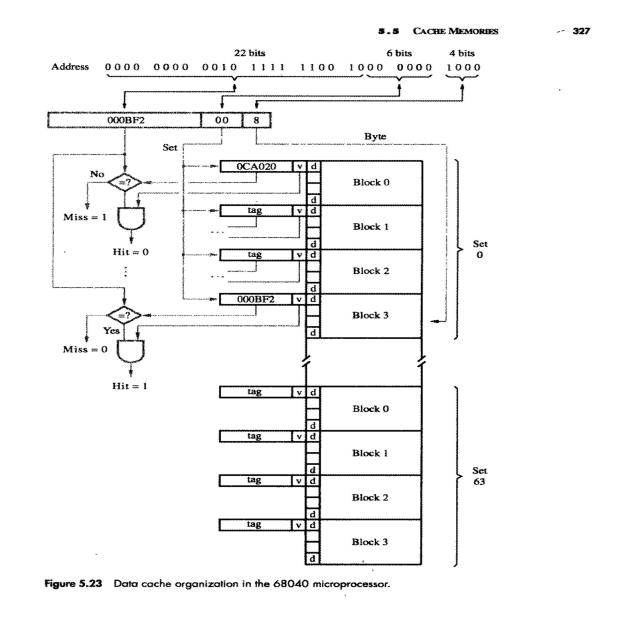diagram: (37, 33, 514, 601)
